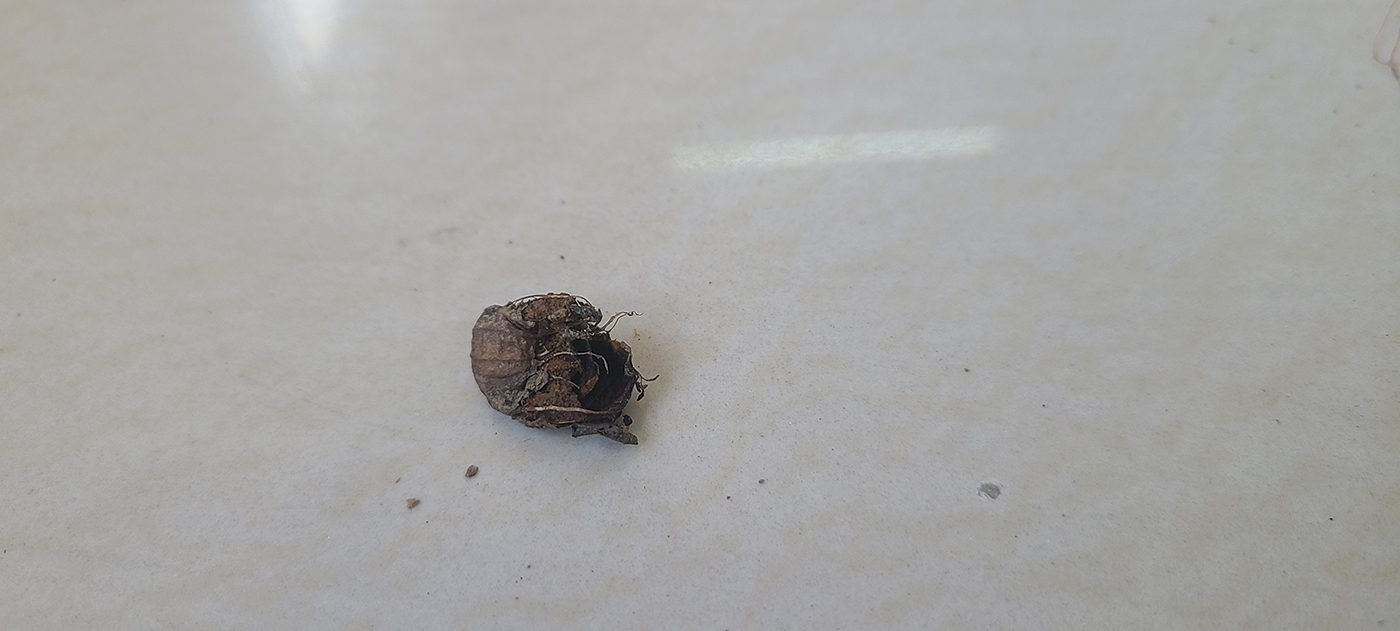l: (469, 292, 654, 448)
